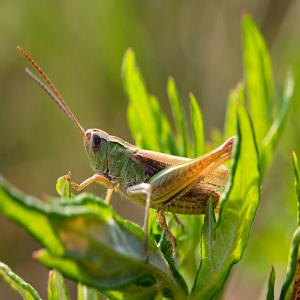locust: (44, 96, 261, 230)
